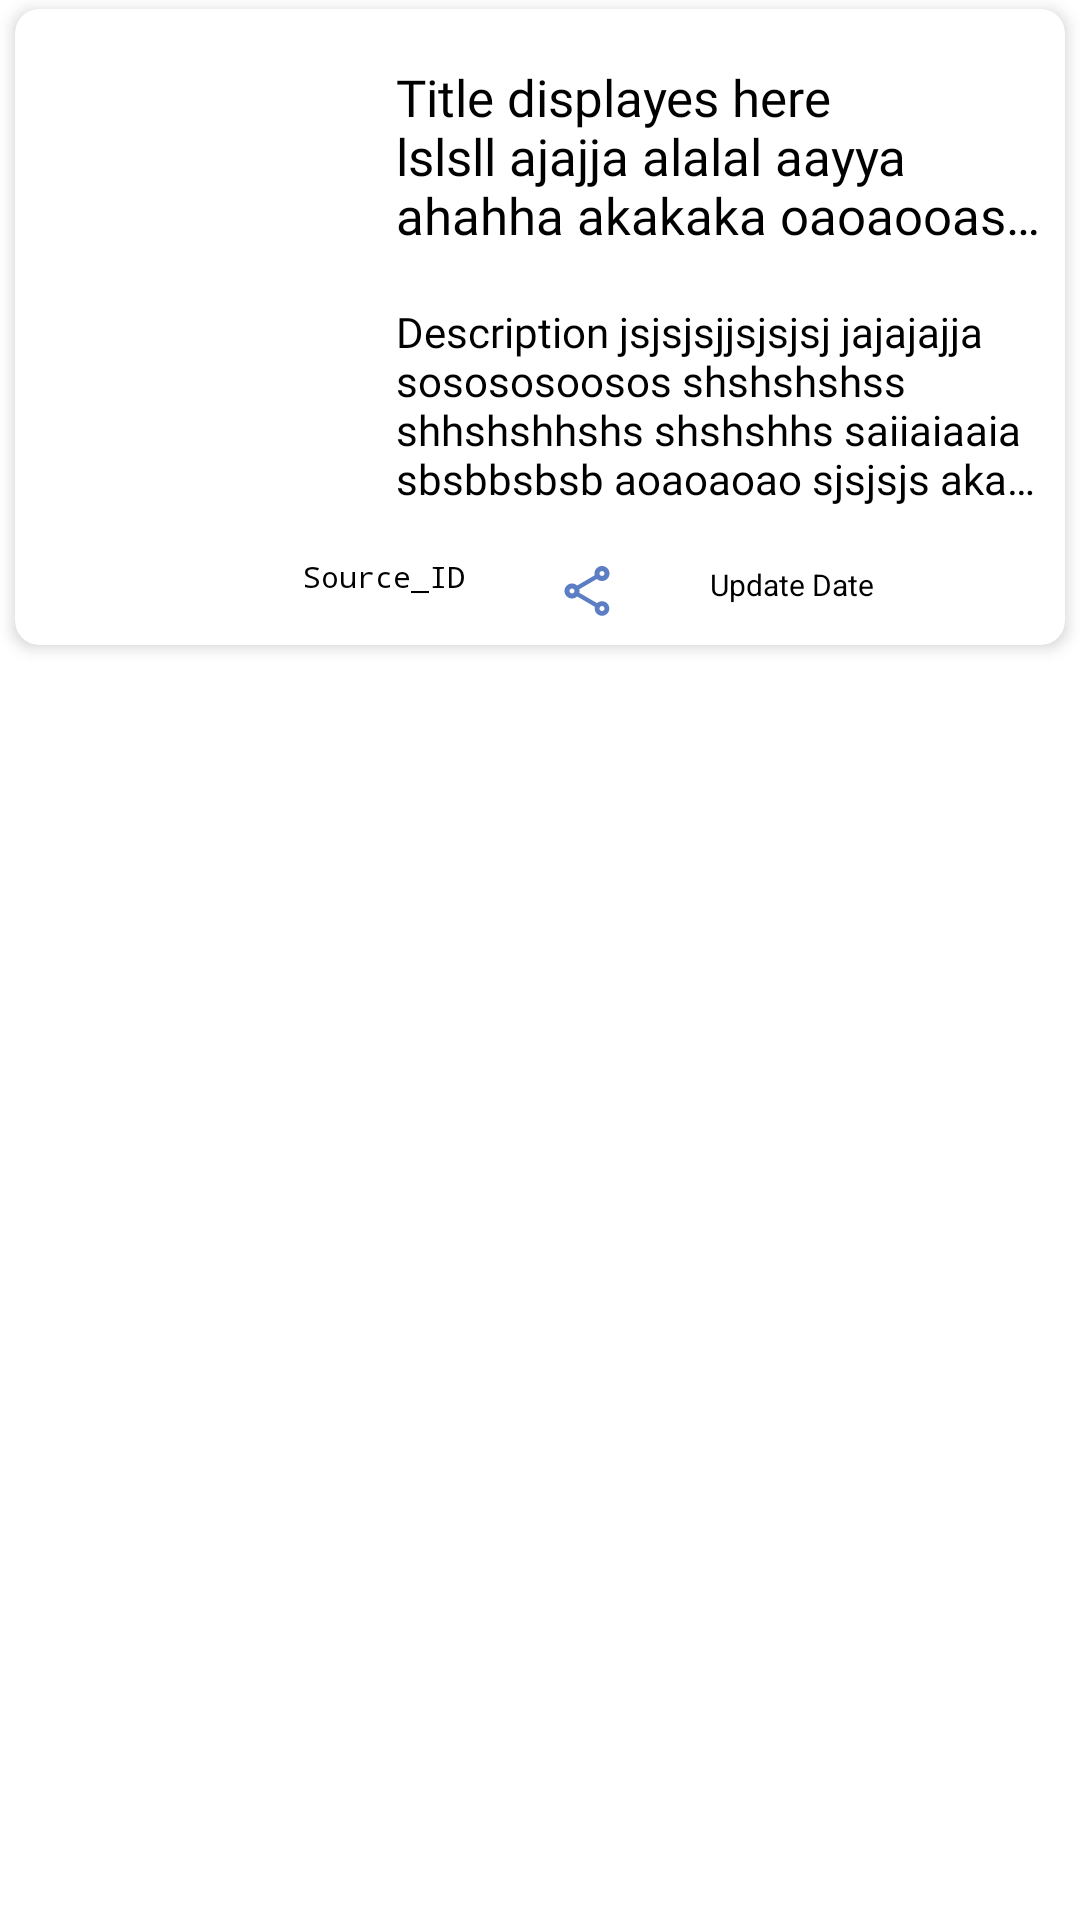

Icon bounding boxes for this 1080×1920 phone screenshot, format (x1, y1, x2, y2):
share: (564, 566, 610, 616)
